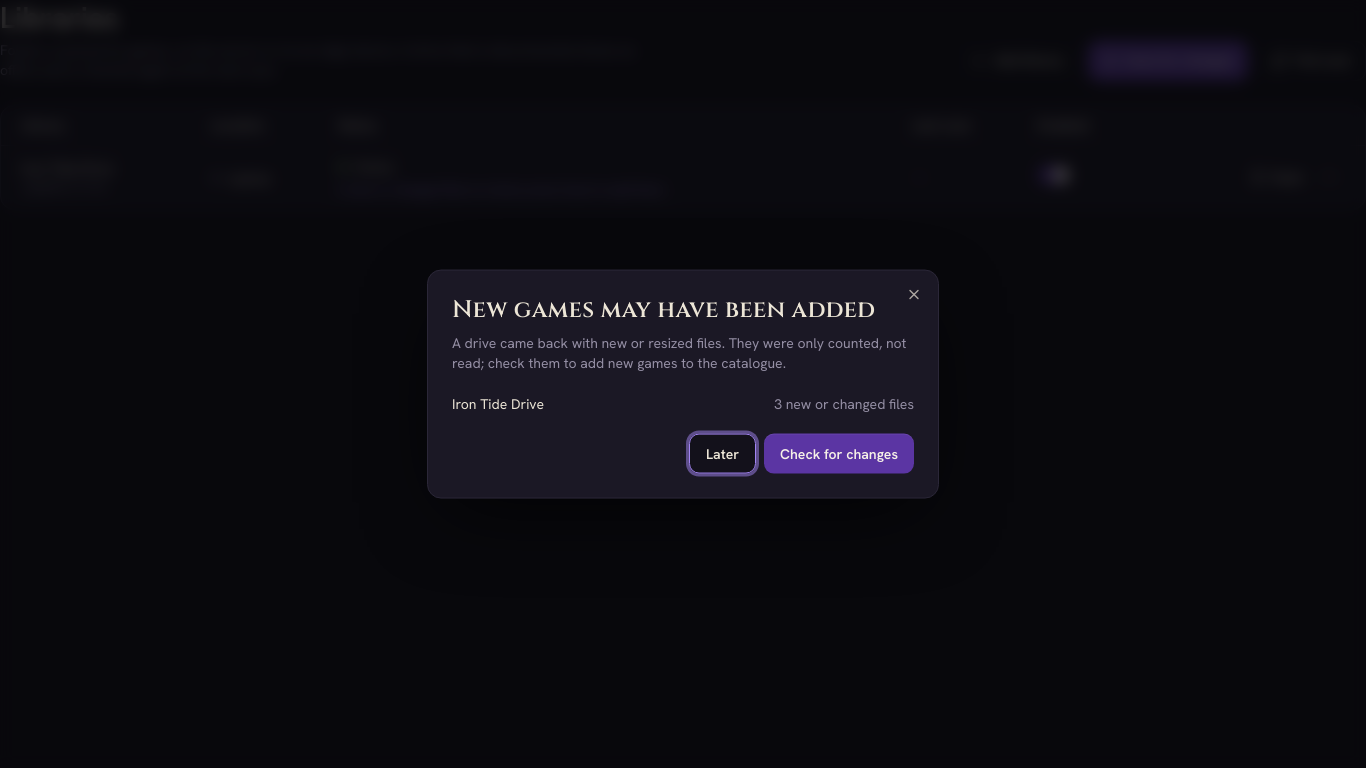
Test: DashboardLibraries › asks to check the new files a reconnected drive brought and scans their libraries
The width and height of the screenshot is (1366, 768).
Expected: the heading "New games may have been added" is shown, [452,295,914,325]
Click the button "Check for changes": (839, 453) [764,433,914,473]
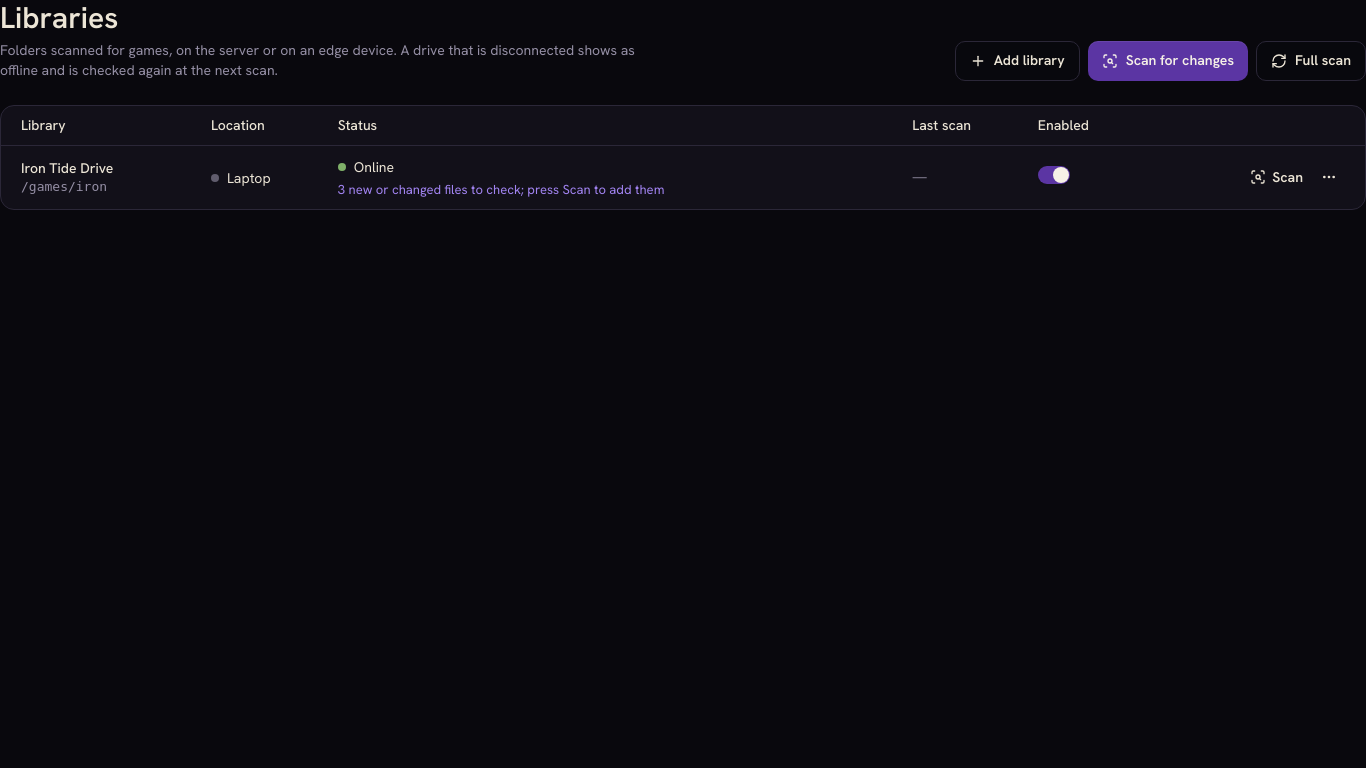
Expected: the text "3 new or changed files to check; press Scan to add them" is shown, [338,181,664,198]
Result: the heading "New games may have been added" is gone
